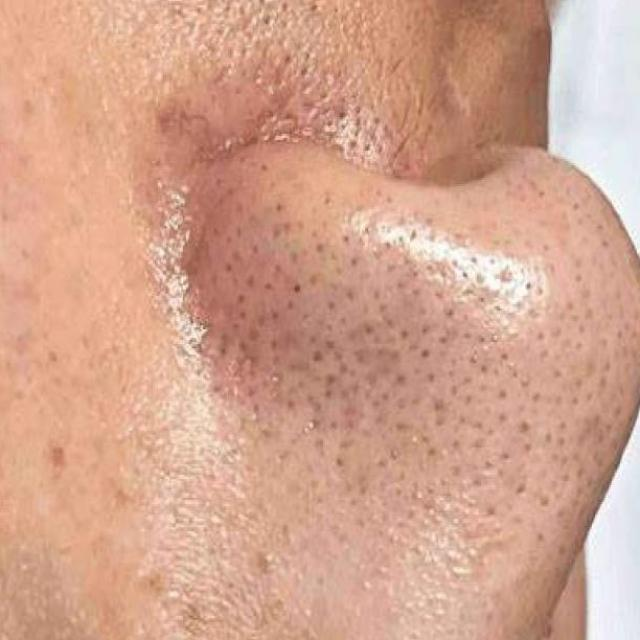blackhead: (170, 179, 628, 565)
